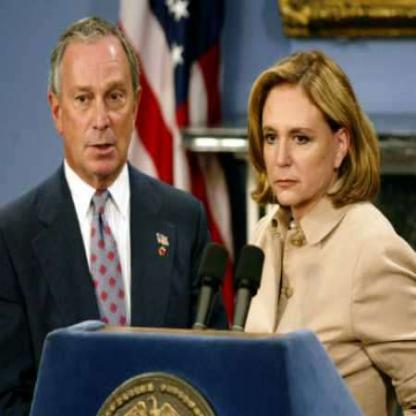face: (60, 25, 137, 179), (256, 67, 336, 209)
